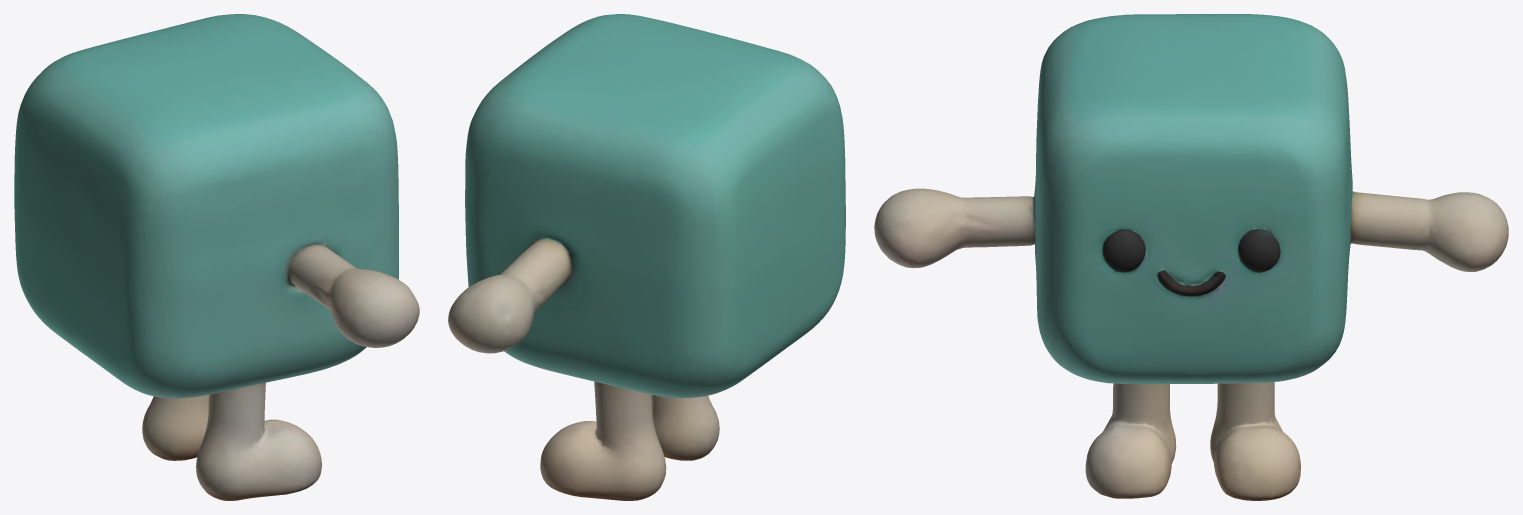
The picture shows the model from 3 angles, left to right: view 1: azimuth 30°, elevation 25°; view 2: azimuth 150°, elevation 25°; view 3: azimuth 270°, elevation 25°; orthographic projection. The views are drawn at different scales.
Visible parts, largest first — view 1: tripo_node_52f65497-993c-49d1-a277-65326d2c8a36; view 2: tripo_node_52f65497-993c-49d1-a277-65326d2c8a36; view 3: tripo_node_52f65497-993c-49d1-a277-65326d2c8a36.
Boxes of the visible parts, <box> form: tripo_node_52f65497-993c-49d1-a277-65326d2c8a36: <box>14,14,419,500</box>; tripo_node_52f65497-993c-49d1-a277-65326d2c8a36: <box>448,14,845,500</box>; tripo_node_52f65497-993c-49d1-a277-65326d2c8a36: <box>874,14,1508,500</box>.
Size of the model in its own units: 0.531 by 0.7249 by 0.9998.
Materials: 1 (1 with a texture image).
